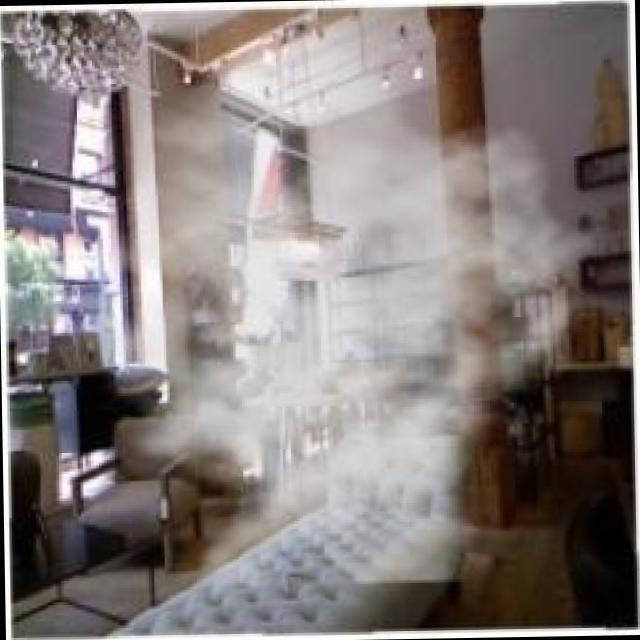smoke: (192, 164, 582, 522)
